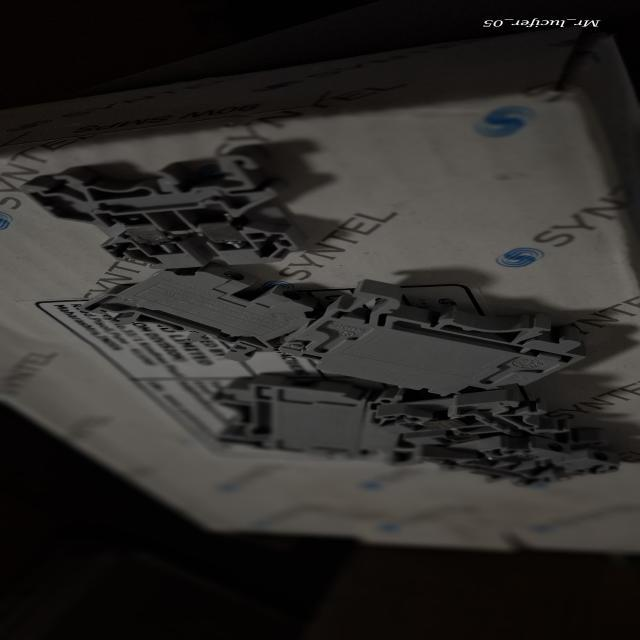Inverted: (276, 285, 594, 417), (89, 275, 318, 356)
Pass: (13, 147, 320, 276)
